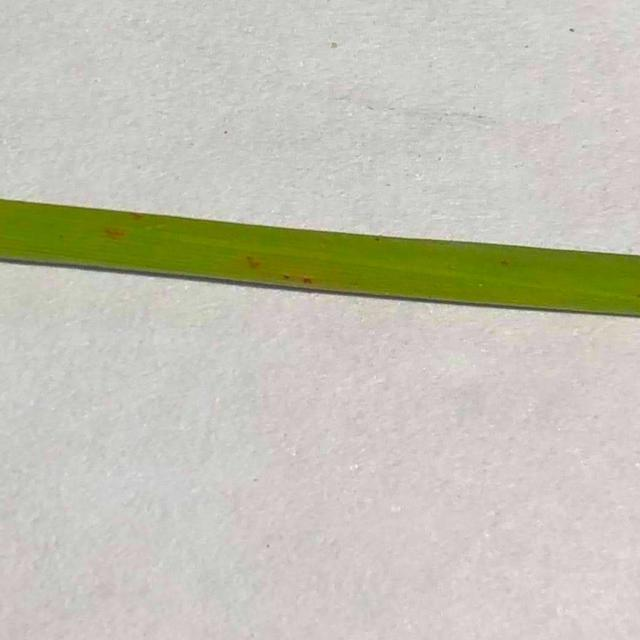brownspots: (239, 250, 332, 290), (91, 221, 129, 251), (120, 211, 146, 228)
